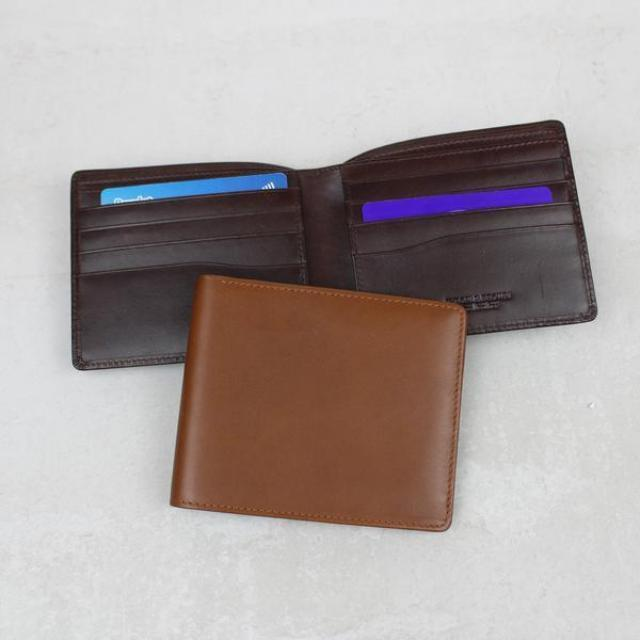wallet: (70, 116, 598, 367), (170, 270, 464, 540)
